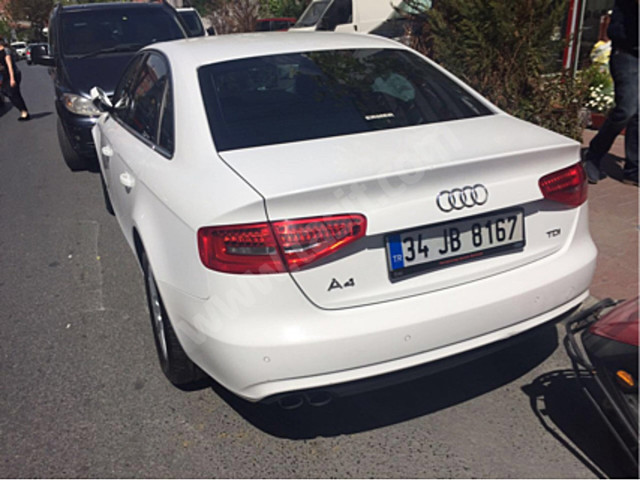audi: (429, 180, 493, 212)
